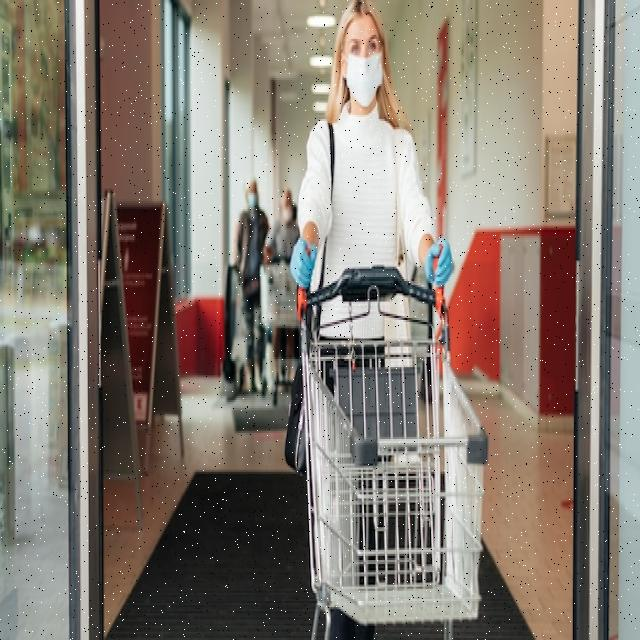Person: (290, 0, 454, 281)
